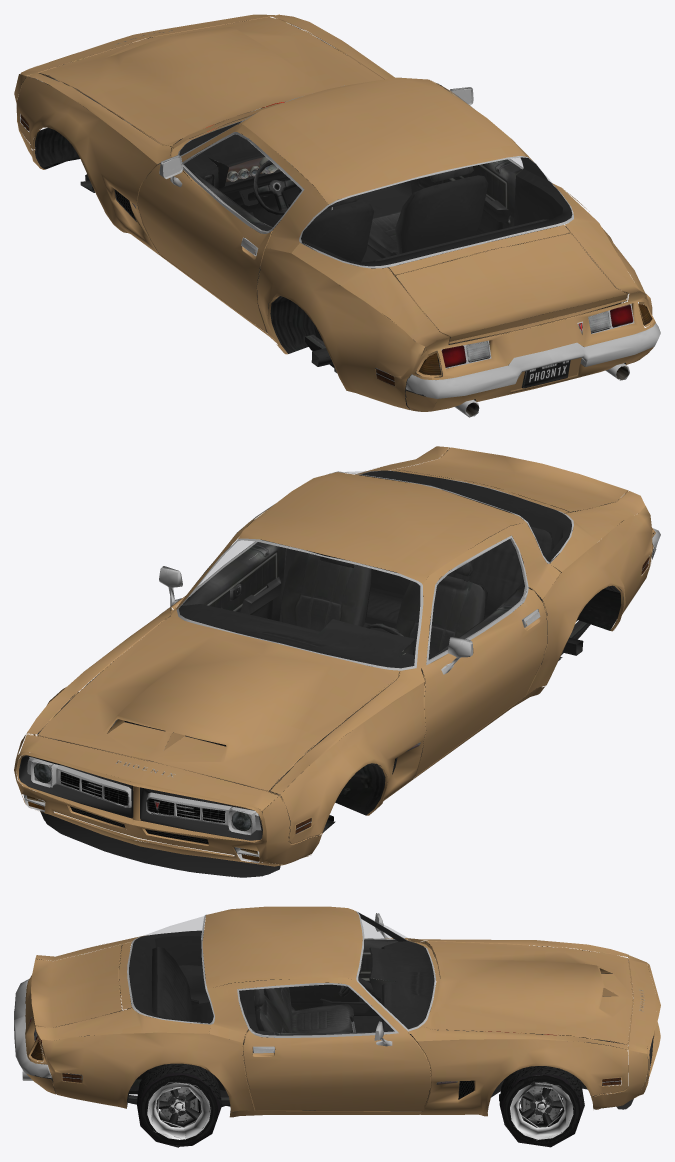
The model's file is phoenix_lo.glb.
3 renders of one model, top to bottom at view 1: azimuth 30°, elevation 25°; view 2: azimuth 150°, elevation 25°; view 3: azimuth 270°, elevation 25°, orthographic. The views are drawn at different scales.
Visible parts, largest first — view 1: body; view 2: body; view 3: body, wheel_R, wheel_F.
Part boxes in pixels (box(x1,y1,x2,y2)): body: box(14, 14, 660, 417); body: box(14, 446, 660, 877); body: box(14, 906, 660, 1117); wheel_R: box(137, 1063, 222, 1147); wheel_F: box(499, 1066, 584, 1147).
Size of the model in its own units: 2.16 by 1.37 by 5.06.
13 materials, 12 textured.
